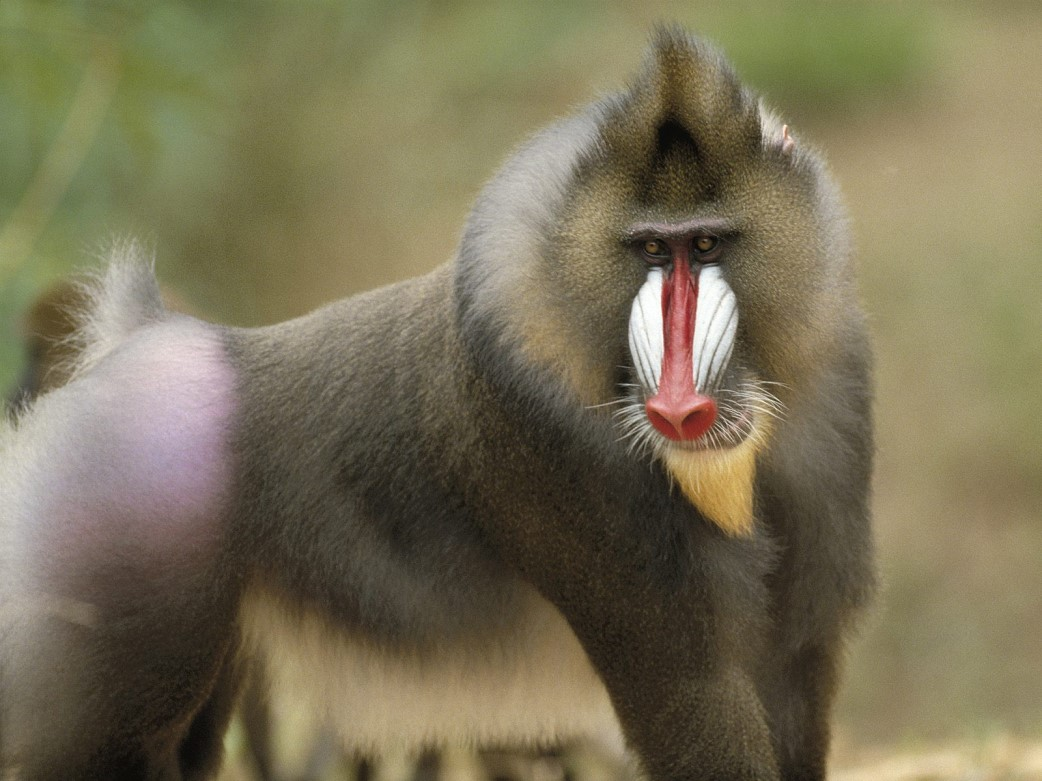Mandrill: (73, 38, 923, 734)
